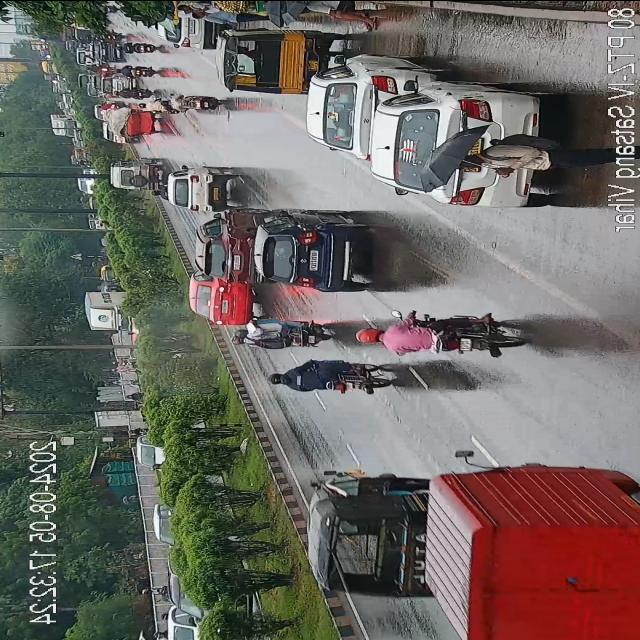2-wheelers: (349, 312, 519, 355), (274, 362, 388, 396), (227, 322, 331, 352), (162, 92, 222, 114), (120, 60, 158, 80), (119, 41, 159, 58), (114, 89, 154, 97), (138, 100, 168, 110), (90, 31, 126, 39), (150, 186, 169, 198), (87, 64, 114, 72), (112, 358, 136, 366), (95, 102, 127, 106), (126, 392, 140, 399), (76, 158, 92, 164), (130, 427, 144, 433), (152, 462, 162, 468)
auto: (425, 452, 640, 640), (310, 469, 434, 603), (216, 31, 316, 97), (109, 108, 159, 134), (99, 264, 115, 278), (72, 147, 88, 158)
bus: (40, 60, 58, 72)
car: (370, 72, 550, 210), (308, 56, 409, 156), (254, 208, 366, 292), (195, 213, 260, 281), (184, 278, 248, 322), (156, 5, 216, 49), (170, 166, 223, 214), (114, 160, 162, 194), (162, 608, 212, 640), (130, 434, 172, 470), (153, 502, 189, 544), (89, 40, 121, 61), (103, 123, 132, 145), (76, 72, 102, 96), (103, 74, 133, 94)
pedestrian: (452, 137, 600, 181), (308, 0, 374, 31), (192, 4, 262, 26), (114, 378, 138, 386), (112, 367, 136, 373)
truck: (82, 290, 141, 332), (50, 114, 86, 136)
